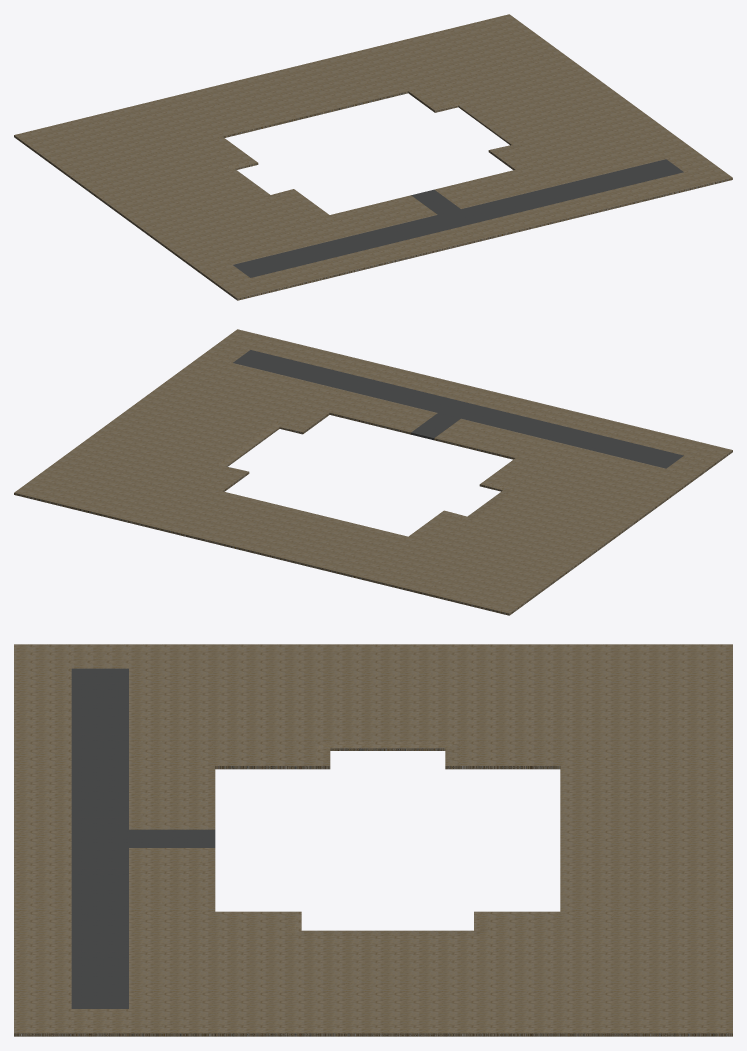
Rendered from connected_ground_render.glb.
3 views of the same model, one above another, from view 1: azimuth 30°, elevation 25°; view 2: azimuth 150°, elevation 25°; view 3: azimuth 270°, elevation 25° (orthographic). The views are drawn at different scales.
Visible parts, largest first — view 1: ground_support_000, ground_support_001, ground_support_052, ground_support_003, road_support_004, ground_support_013, ground_support_027, ground_support_005, ground_support_012, ground_support_028, ground_support_031, driveway_support_026 (+2 smaller); view 2: ground_support_000, ground_support_001, ground_support_052, ground_support_003, road_support_004, ground_support_027, ground_support_013, ground_support_012, ground_support_005, ground_support_031, ground_support_028, driveway_support_026 (+2 smaller); view 3: ground_support_000, ground_support_052, ground_support_001, ground_support_003, road_support_004, ground_support_013, ground_support_027, ground_support_005, ground_support_012, ground_support_031, ground_support_028, driveway_support_026 (+2 smaller).
Boxes of the visible parts, x1=… form: ground_support_000: x1=14, y1=14, x2=562, y2=175; ground_support_001: x1=67, y1=144, x2=324, y2=274; ground_support_052: x1=439, y1=53, x2=696, y2=181; ground_support_003: x1=219, y1=165, x2=732, y2=300; road_support_004: x1=233, y1=159, x2=683, y2=277; ground_support_013: x1=299, y1=195, x2=437, y2=242; ground_support_027: x1=434, y1=162, x2=572, y2=208; ground_support_005: x1=192, y1=136, x2=253, y2=166; ground_support_012: x1=268, y1=192, x2=329, y2=222; ground_support_028: x1=408, y1=84, x2=460, y2=109; ground_support_031: x1=493, y1=146, x2=545, y2=170; driveway_support_026: x1=411, y1=189, x2=460, y2=214; ground_support_000: x1=14, y1=453, x2=562, y2=615; ground_support_001: x1=439, y1=446, x2=697, y2=576; ground_support_052: x1=68, y1=355, x2=325, y2=483; ground_support_003: x1=220, y1=329, x2=732, y2=464; road_support_004: x1=233, y1=350, x2=683, y2=468; ground_support_027: x1=299, y1=385, x2=437, y2=434; ground_support_013: x1=434, y1=418, x2=572, y2=465; ground_support_012: x1=485, y1=458, x2=545, y2=488; ground_support_005: x1=409, y1=513, x2=469, y2=543; ground_support_031: x1=277, y1=405, x2=329, y2=430; ground_support_028: x1=192, y1=467, x2=244, y2=491; driveway_support_026: x1=411, y1=413, x2=460, y2=440; ground_support_000: x1=560, y1=644, x2=732, y2=1036; ground_support_052: x1=129, y1=936, x2=560, y2=1036; ground_support_001: x1=129, y1=644, x2=560, y2=741; ground_support_003: x1=14, y1=644, x2=71, y2=1036; road_support_004: x1=71, y1=668, x2=128, y2=1008; ground_support_013: x1=129, y1=741, x2=215, y2=829; ground_support_027: x1=129, y1=848, x2=215, y2=935; ground_support_005: x1=459, y1=741, x2=560, y2=769; ground_support_012: x1=215, y1=741, x2=315, y2=769; ground_support_031: x1=215, y1=911, x2=287, y2=935; ground_support_028: x1=488, y1=911, x2=560, y2=935; driveway_support_026: x1=129, y1=829, x2=215, y2=847.
Size of the model in its own units: 128 by 0.52 by 100.
2 materials, 2 textured.
